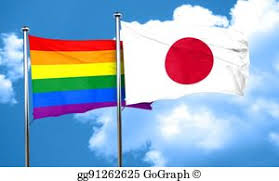Japanese Flag: (118, 19, 253, 107)
